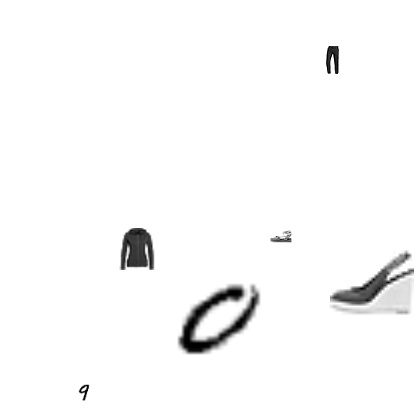0: (159, 261, 271, 373)
9: (73, 380, 95, 402)
Coat: (115, 228, 157, 270)
Sandal: (330, 239, 414, 323), (270, 225, 292, 247)
Trouser: (318, 46, 346, 74)
